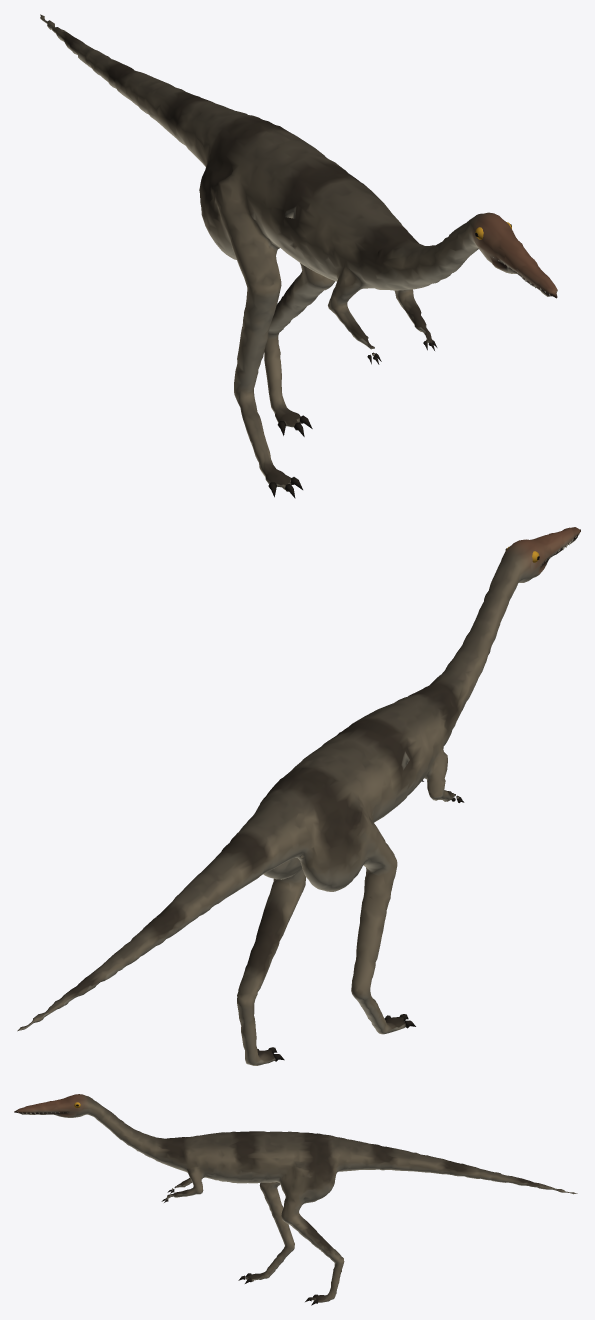
The model's file is Coelophysis.fbx.
3 views of the same model, one above another, from view 1: azimuth 30°, elevation 25°; view 2: azimuth 150°, elevation 25°; view 3: azimuth 270°, elevation 25° (orthographic). The views are drawn at different scales.
Parts seen in each view (by area): view 1: Coelophysis; view 2: Coelophysis; view 3: Coelophysis.
Part boxes in pixels (bbox=[...]): Coelophysis: bbox=[40, 14, 557, 498]; Coelophysis: bbox=[17, 527, 580, 1065]; Coelophysis: bbox=[14, 1094, 577, 1305].
Bounding box in the file's own units: 0.2157 × 0.7596 × 1.97.
